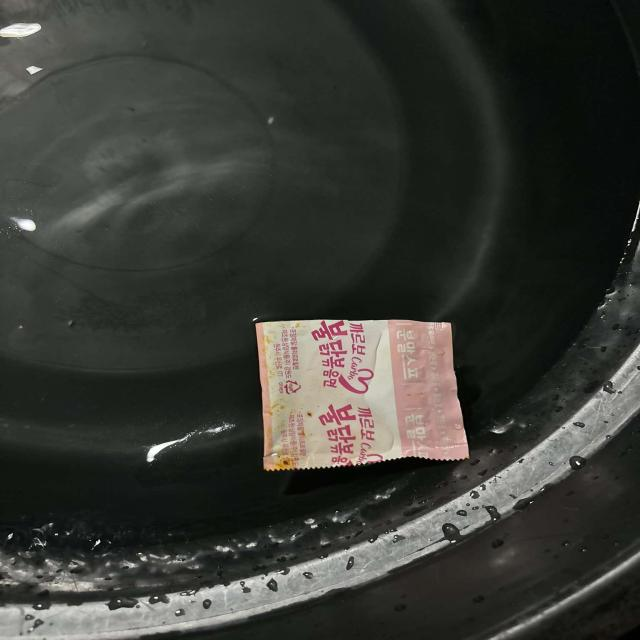Plastic Wrapper: (256, 320, 468, 470)
